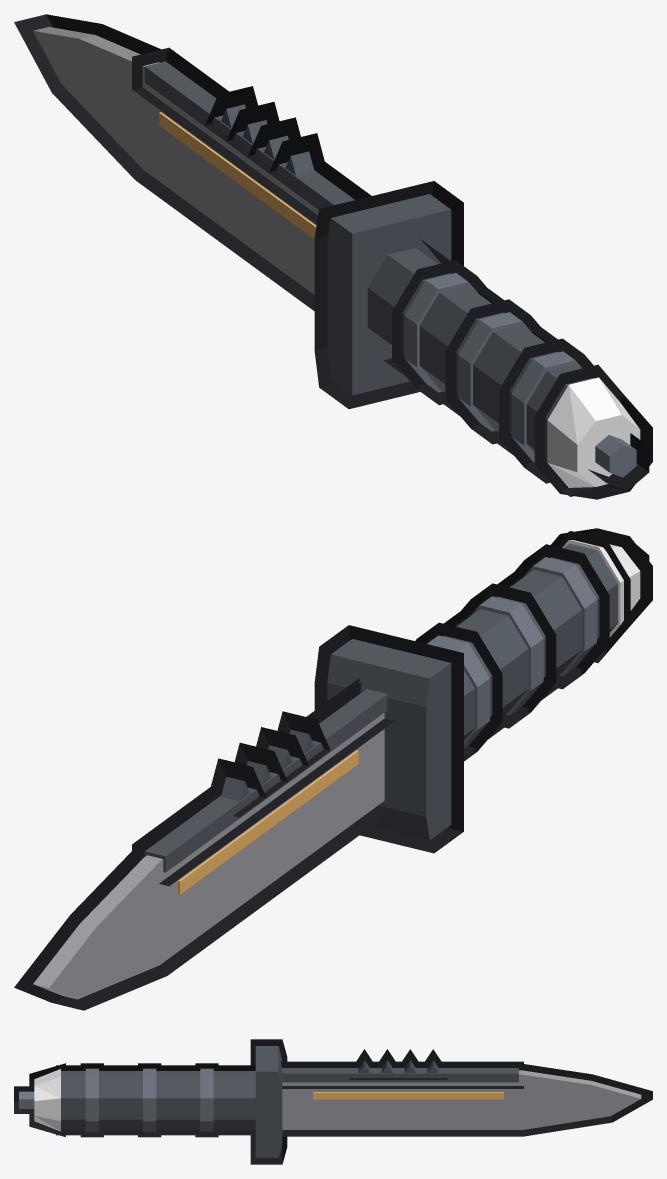
File: KNIFE.gltf
3 renders of one model, top to bottom at view 1: azimuth 30°, elevation 25°; view 2: azimuth 150°, elevation 25°; view 3: azimuth 270°, elevation 25°, orthographic. The views are drawn at different scales.
Parts seen in each view (by area): view 1: KNIFE; view 2: KNIFE; view 3: KNIFE.
Boxes of the visible parts, x1=… form: KNIFE: x1=14, y1=14, x2=652, y2=499; KNIFE: x1=14, y1=528, x2=652, y2=1010; KNIFE: x1=14, y1=1039, x2=652, y2=1164.
Size of the model in its own units: 0.0372 by 0.0557 by 0.3347.
